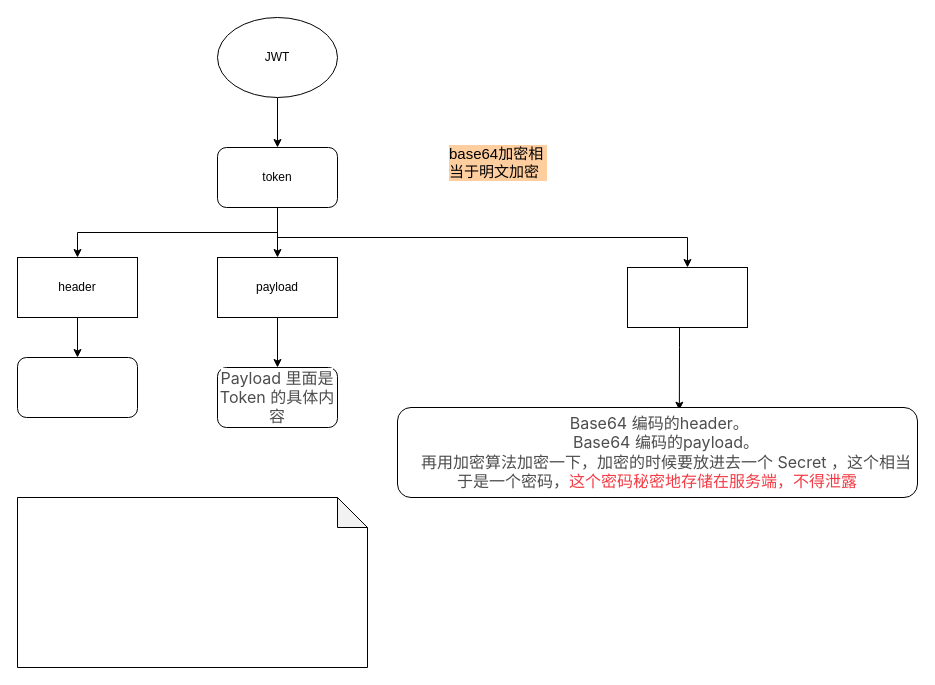
Image size: 935x685. Some labels were removed from this diagram. The shapes that lost their labels are listed below. From the top down, each one's centre as x and y in pixels, then its label:
point (687, 297): signature
point (77, 387): typ：声明类型 alg：加密算法
point (192, 582): 三部分组成，每一部分都进行字符串的转化 解密的时候没有使用数据库，仅仅使用的是secret进行解密（减小服务器资源压力） Jwt使用的secret千万不能丢失
